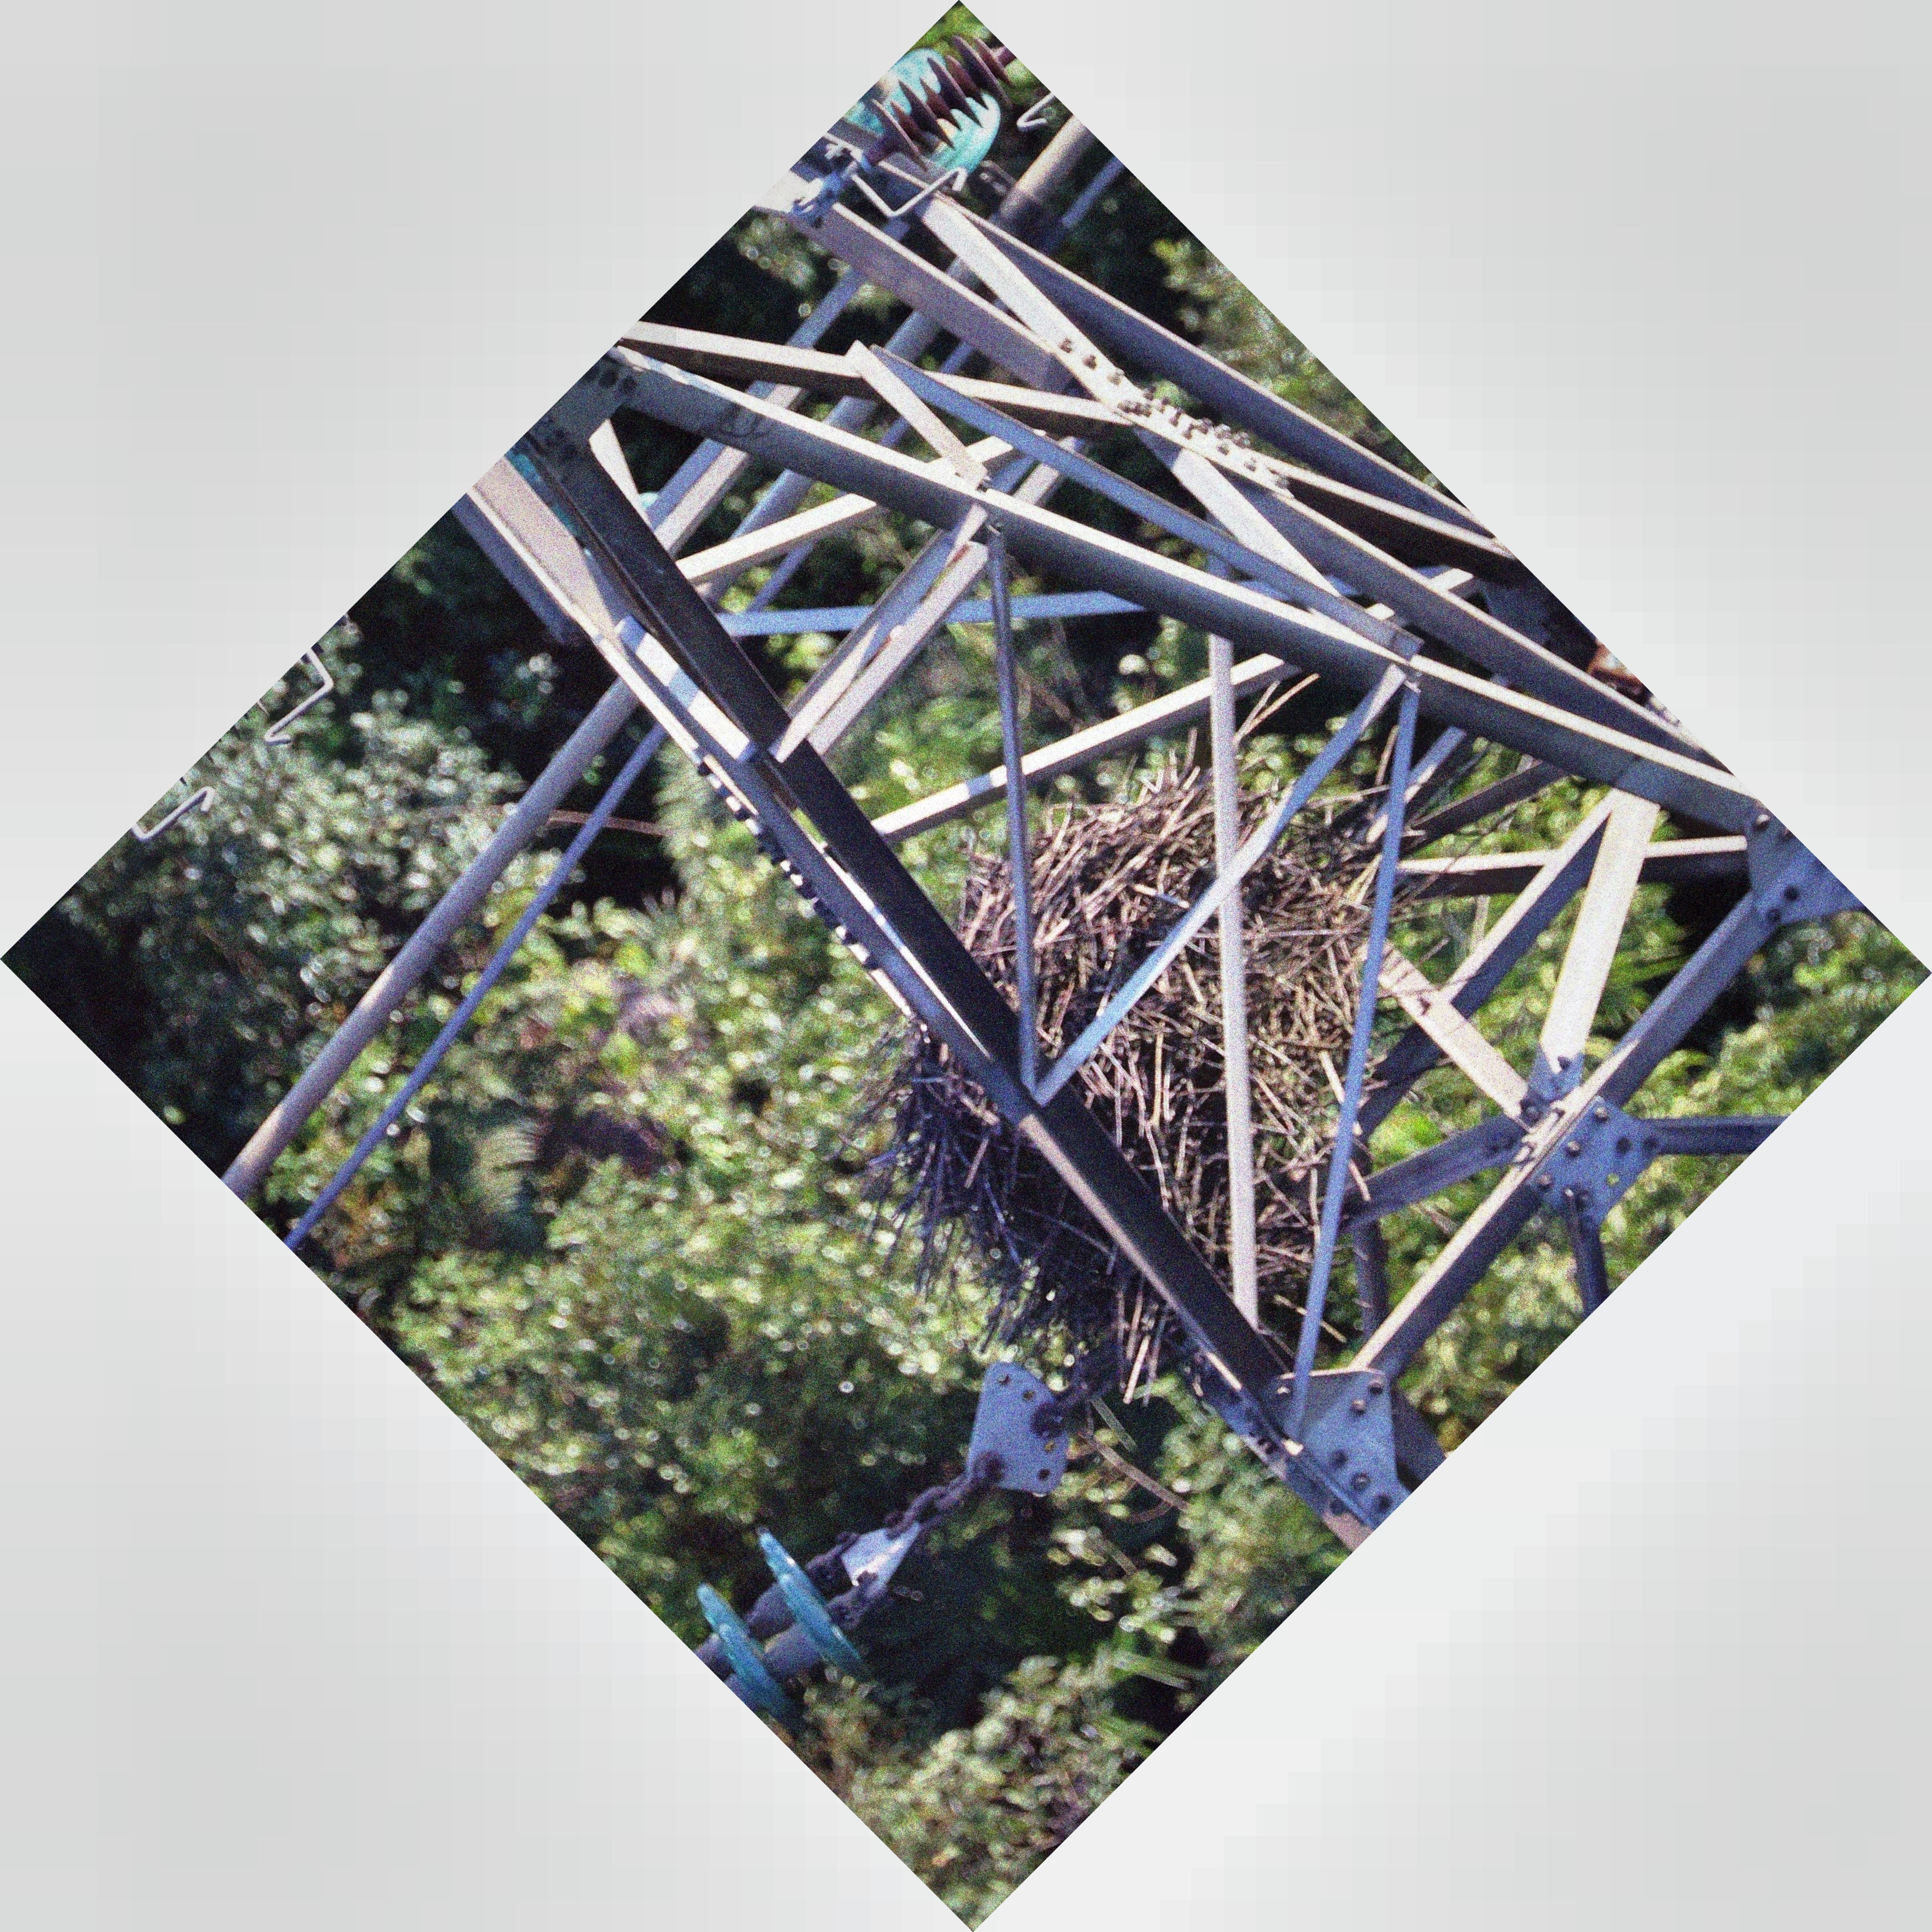niaowo: (814, 727, 1417, 1376)
